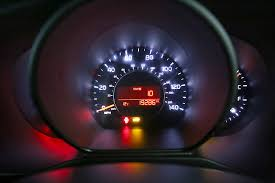Digital_Meter: (119, 99, 161, 112)
